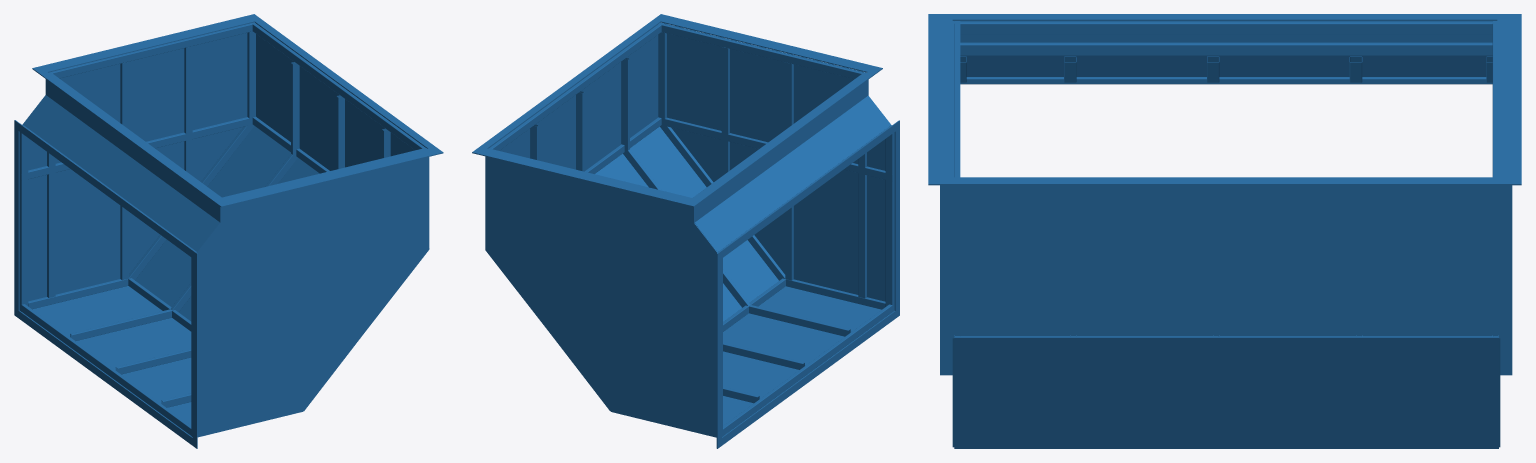
The model's file is Phase03.fbx.
3 renders of one model, left to right at view 1: azimuth 30°, elevation 25°; view 2: azimuth 150°, elevation 25°; view 3: azimuth 270°, elevation 25°, orthographic. The views are drawn at different scales.
Parts seen in each view (by area): view 1: RAL5015 (×2), Профили_гнутые_замкнутые_сварные_прямоугольные_ГОСТ 30245-20 (×20), Стальной лист (ГОСТ 19903-74) Балки:1280:267675, Стальной лист (ГОСТ 19903-74) Балки:1115:267315, Стальной лист (ГОСТ 19903-74) Балки:400:266651, Стальной лист (ГОСТ 19903-74) Балки:2065:267464, Стальной лист (ГОСТ 19903-74) Балки:250:266987, Стальной лист (ГОСТ 19903-74) Балки:155:263234, Стальной лист (ГОСТ 19903-74) Балки:155:262777, Стальной лист (ГОСТ 19903-74) Балки:Лист 10х86:263609, Стальной лист (ГОСТ 19903-74) Балки:Лист 10х86:263512, Стальной лист (ГОСТ 19903-74) Балки:Лист 10х86:263454 (+3 smaller); view 2: RAL5015 (×2), Профили_гнутые_замкнутые_сварные_прямоугольные_ГОСТ 30245-20 (×19), Стальной лист (ГОСТ 19903-74) Балки:1280:267675, Стальной лист (ГОСТ 19903-74) Балки:1115:267315, Стальной лист (ГОСТ 19903-74) Балки:400:266651, Стальной лист (ГОСТ 19903-74) Балки:2065:267464, Стальной лист (ГОСТ 19903-74) Балки:250:266987, Стальной лист (ГОСТ 19903-74) Балки:155:262777, Стальной лист (ГОСТ 19903-74) Балки:155:263234, Стальной лист (ГОСТ 19903-74) Балки:Лист 10х86:263609, Стальной лист (ГОСТ 19903-74) Балки:Лист 10х86:263512, Стальной лист (ГОСТ 19903-74) Балки:Лист 10х86:263298 (+3 smaller); view 3: Стальной лист (ГОСТ 19903-74) Балки:1115:267315, Стальной лист (ГОСТ 19903-74) Балки:2065:267464, Профили_гнутые_замкнутые_сварные_прямоугольные_ГОСТ 30245-20 (×6), Стальной лист (ГОСТ 19903-74) Балки:400:266651, Стальной лист (ГОСТ 19903-74) Балки:250:266987, Стальной лист (ГОСТ 19903-74) Балки:Лист 10х86:263298, Стальной лист (ГОСТ 19903-74) Балки:155:262777, Стальной лист (ГОСТ 19903-74) Балки:155:263234, Стальной лист (ГОСТ 19903-74) Балки:Лист 10х86:263454, Стальной лист (ГОСТ 19903-74) Балки:Лист 10х86:263719, Стальной лист (ГОСТ 19903-74) Балки:Лист 10х86:263985, RAL5015.
Part boxes in pixels (box(x1,y1,x2,y2)): RAL5015 (×2): box(22, 33, 429, 436); Профили_гнутые_замкнутые_сварные_прямоугольные_ГОСТ 30245-20 (×20): box(19, 22, 426, 435); Стальной лист (ГОСТ 19903-74) Балки:1280:267675: box(22, 286, 302, 437); Стальной лист (ГОСТ 19903-74) Балки:1115:267315: box(256, 23, 425, 170); Стальной лист (ГОСТ 19903-74) Балки:400:266651: box(23, 95, 219, 251); Стальной лист (ГОСТ 19903-74) Балки:2065:267464: box(135, 126, 354, 410); Стальной лист (ГОСТ 19903-74) Балки:250:266987: box(46, 79, 219, 221); Стальной лист (ГОСТ 19903-74) Балки:155:263234: box(213, 147, 443, 207); Стальной лист (ГОСТ 19903-74) Балки:155:262777: box(32, 14, 261, 74); Стальной лист (ГОСТ 19903-74) Балки:Лист 10х86:263609: box(14, 308, 197, 448); Стальной лист (ГОСТ 19903-74) Балки:Лист 10х86:263512: box(18, 123, 197, 261); Стальной лист (ГОСТ 19903-74) Балки:Лист 10х86:263454: box(40, 72, 220, 201); RAL5015 (×2): box(485, 22, 894, 437); Профили_гнутые_замкнутые_сварные_прямоугольные_ГОСТ 30245-20 (×19): box(489, 23, 894, 436); Стальной лист (ГОСТ 19903-74) Балки:1280:267675: box(612, 286, 890, 437); Стальной лист (ГОСТ 19903-74) Балки:1115:267315: box(489, 24, 658, 171); Стальной лист (ГОСТ 19903-74) Балки:400:266651: box(695, 96, 890, 251); Стальной лист (ГОСТ 19903-74) Балки:2065:267464: box(562, 126, 778, 411); Стальной лист (ГОСТ 19903-74) Балки:250:266987: box(694, 80, 867, 222); Стальной лист (ГОСТ 19903-74) Балки:155:262777: box(472, 146, 701, 207); Стальной лист (ГОСТ 19903-74) Балки:155:263234: box(654, 14, 882, 74); Стальной лист (ГОСТ 19903-74) Балки:Лист 10х86:263609: box(716, 308, 899, 448); Стальной лист (ГОСТ 19903-74) Балки:Лист 10х86:263512: box(721, 120, 899, 258); Стальной лист (ГОСТ 19903-74) Балки:Лист 10х86:263298: box(480, 19, 660, 148); Стальной лист (ГОСТ 19903-74) Балки:1115:267315: box(954, 185, 1498, 336); Стальной лист (ГОСТ 19903-74) Балки:2065:267464: box(954, 336, 1498, 448); Профили_гнутые_замкнутые_сварные_прямоугольные_ГОСТ 30245-20 (×6): box(954, 21, 1497, 178); Стальной лист (ГОСТ 19903-74) Балки:400:266651: box(960, 56, 1492, 76); Стальной лист (ГОСТ 19903-74) Балки:250:266987: box(960, 21, 1492, 42); Стальной лист (ГОСТ 19903-74) Балки:Лист 10х86:263298: box(952, 178, 1497, 185); Стальной лист (ГОСТ 19903-74) Балки:155:262777: box(1497, 14, 1521, 185); Стальной лист (ГОСТ 19903-74) Балки:155:263234: box(928, 14, 952, 185); Стальной лист (ГОСТ 19903-74) Балки:Лист 10х86:263454: box(952, 14, 1497, 20); Стальной лист (ГОСТ 19903-74) Балки:Лист 10х86:263719: box(940, 185, 952, 362); Стальной лист (ГОСТ 19903-74) Балки:Лист 10х86:263985: box(1500, 185, 1512, 362); RAL5015: box(952, 21, 954, 447).
Size of the model in its own units: 2817 by 3800 by 2660.
